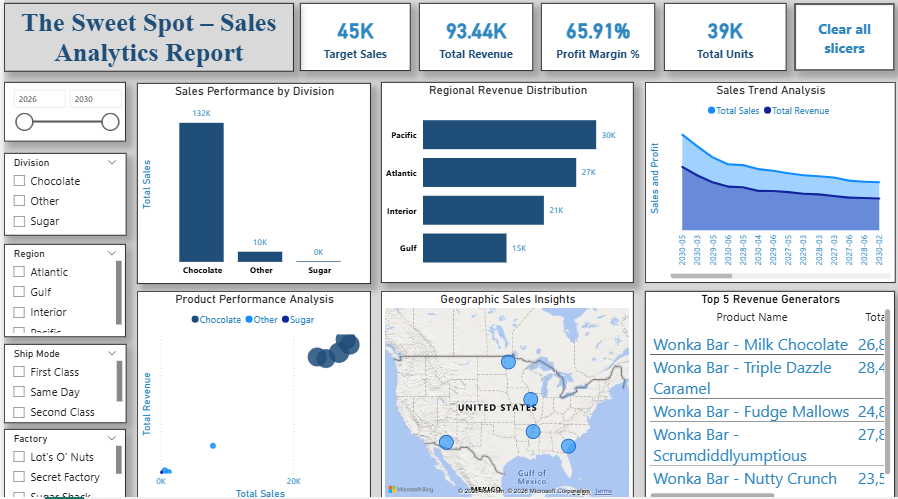

Layout of this report page (visuals, bound fields, positions):
{"tool":"powerbi","page":{"name":"Page 1","canvas":[1280,720],"ordinal":0},"visuals":[{"type":"card","fields":{"Values":["Sales.Target Sales"]},"box":[423.3,5,157.9,97.4],"z":0},{"type":"card","title":"Total Revenue","fields":{"Values":["Sales.Total Profit"]},"box":[593,5,162.9,97.4],"z":1000},{"type":"card","fields":{"Values":["Sales.Profit Margin %"]},"box":[767.7,5,162.9,97.4],"z":2000},{"type":"card","fields":{"Values":["Sales.Total Units"]},"box":[942.4,5,174.7,97.4],"z":3000},{"type":"clusteredColumnChart","title":"Sales Performance by Division","fields":{"Category":["Sales.Division"],"Y":["Sales.Total Sales"]},"box":[190.1,119.5,334.1,286.6],"z":4000},{"type":"barChart","title":"Regional Revenue Distribution","fields":{"Category":["Sales.Region"],"Y":["Sales.Total Profit"]},"box":[539.2,119.3,361.2,287.2],"z":5000},{"type":"scatterChart","title":"Product Performance Analysis","fields":{"Y":["Sales.Total Profit"],"Series":["Sales.Division"],"Size":["CountNonNull(Sales.Units)"],"X":["Sales.Total Sales"],"Category":["Sales.Product Name"]},"box":[189.8,416.6,334.3,304],"z":6000},{"type":"map","title":"Geographic Sales Insights","fields":{"Y":["Location.Latitude"],"X":["Location.Longitude"],"Size":["Sales.Total Sales"]},"box":[539.2,416.6,361.2,304],"z":7000},{"type":"tableEx","title":"Top 5 Revenue Generators","fields":{"Values":["Sales.Product Name","Sales.Total Sales","Sales.Total Profit","Sales.Profit Margin %"]},"box":[915.6,416.7,357.2,303.3],"z":8000},{"type":"areaChart","title":"Sales Trend Analysis","fields":{"Category":["Date Table.Year-Month"],"Y":["Sales.Total Sales","Sales.Total Revenue"]},"box":[915.5,119.3,357.8,287.2],"z":9000},{"type":"slicer","fields":{"Values":["Date Table.Year"]},"box":[0,119.1,174.3,85],"z":10000},{"type":"slicer","fields":{"Values":["Sales.Division"]},"box":[0,220.1,174.7,117.6],"z":11000},{"type":"slicer","fields":{"Values":["Sales.Region"]},"box":[0,350.1,174.3,133.2],"z":12000},{"type":"slicer","fields":{"Values":["Sales.Ship Mode"]},"box":[0,492.2,174.7,112.5],"z":13000},{"type":"slicer","fields":{"Values":["Products.Factory"]},"box":[0,613.7,174.3,106.3],"z":14000},{"type":"actionButton","box":[1128.8,5,144.5,97.4],"z":15000},{"type":"textbox","box":[0,5.7,413.9,97.8],"z":16000}]}

Visuals, with their boxes in screenshot pixels (x1, y1, x2, y2), scaled from the page's 1280x720 canvas onto the 898x499 screenshot:
card - Sales.Target Sales: crop(297, 3, 408, 71)
"Total Revenue" card: crop(416, 3, 530, 71)
card - Sales.Profit Margin %: crop(539, 3, 653, 71)
card - Sales.Total Units: crop(661, 3, 784, 71)
"Sales Performance by Division" clusteredColumnChart: crop(133, 83, 368, 281)
"Regional Revenue Distribution" barChart: crop(378, 83, 632, 282)
"Product Performance Analysis" scatterChart: crop(133, 289, 368, 498)
"Geographic Sales Insights" map: crop(378, 289, 632, 498)
"Top 5 Revenue Generators" tableEx: crop(642, 289, 893, 498)
"Sales Trend Analysis" areaChart: crop(642, 83, 893, 282)
slicer - Date Table.Year: crop(0, 83, 122, 141)
slicer - Sales.Division: crop(0, 153, 123, 234)
slicer - Sales.Region: crop(0, 243, 122, 335)
slicer - Sales.Ship Mode: crop(0, 341, 123, 419)
slicer - Products.Factory: crop(0, 425, 122, 498)
actionButton: crop(792, 3, 893, 71)
textbox: crop(0, 4, 290, 72)
